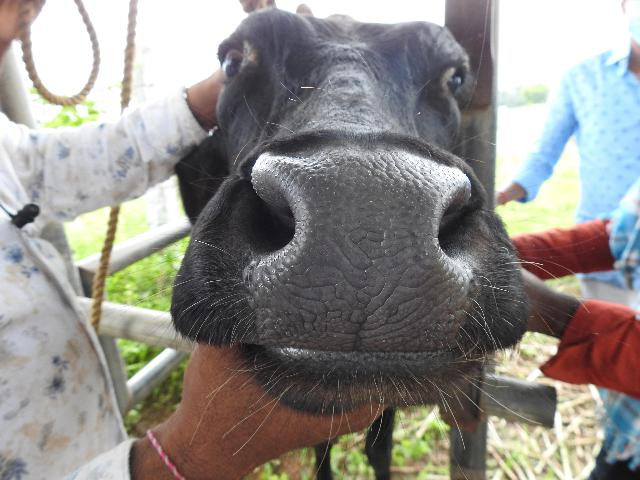Muzzle: (276, 157, 446, 357)
